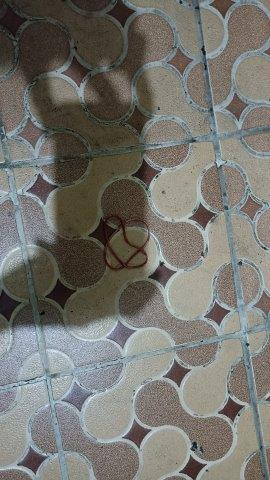karet: (103, 215, 151, 270)
